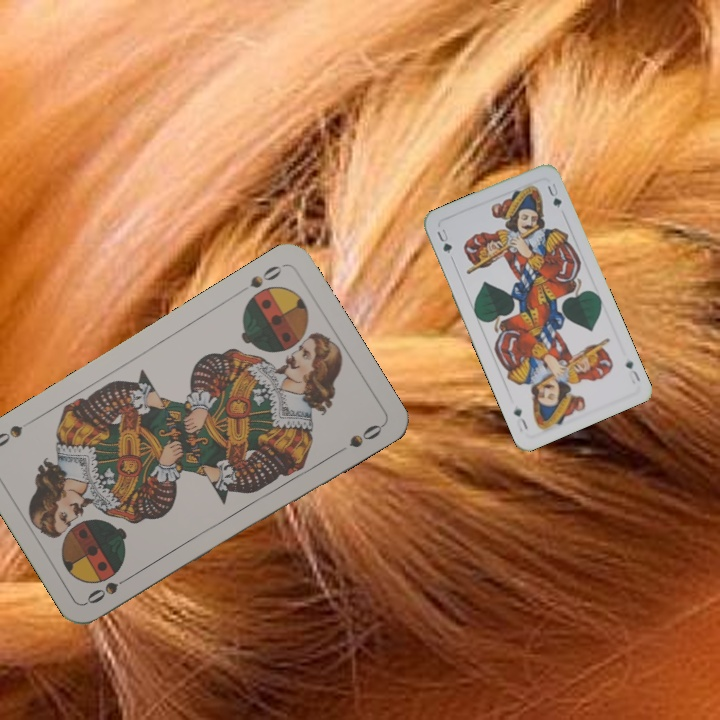GU: (433, 225, 455, 256), (621, 356, 643, 387)
SO: (82, 570, 137, 607), (246, 261, 287, 291)
